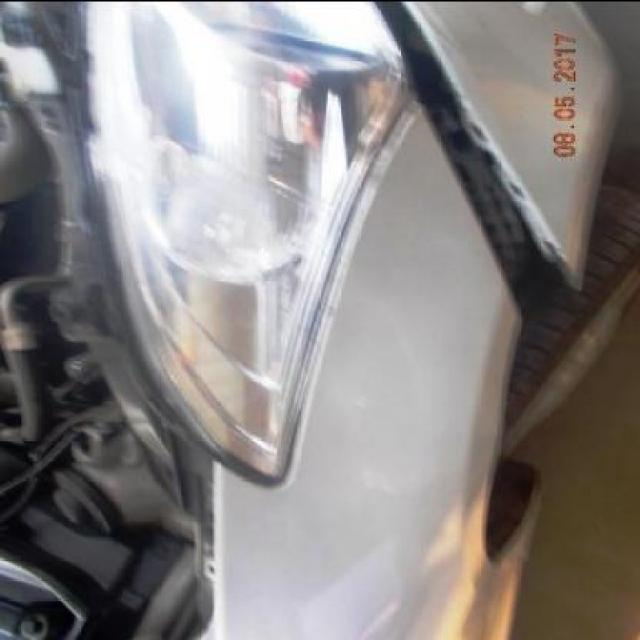damage: (370, 0, 579, 317)
